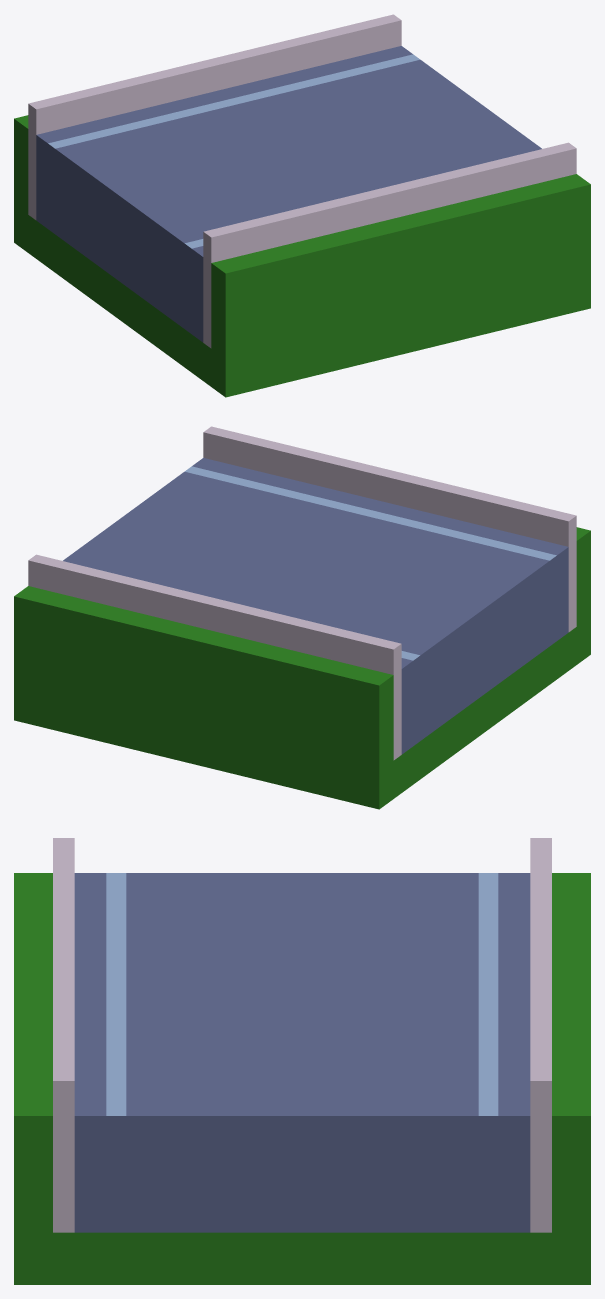
File: Higher Road.fbx
The picture shows the model from 3 angles, top to bottom: view 1: azimuth 30°, elevation 25°; view 2: azimuth 150°, elevation 25°; view 3: azimuth 270°, elevation 25°; orthographic projection. The views are drawn at different scales.
Visible parts, largest first — view 1: Box010.002; view 2: Box010.002; view 3: Box010.002.
Part boxes in pixels (x1=…): Box010.002: x1=14, y1=14, x2=590, y2=397; Box010.002: x1=14, y1=426, x2=590, y2=809; Box010.002: x1=14, y1=838, x2=590, y2=1284.
Bounding box in the file's own units: 50.29 × 19.67 × 50.47.
